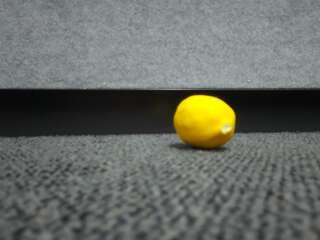lemon: (174, 95, 234, 149)
